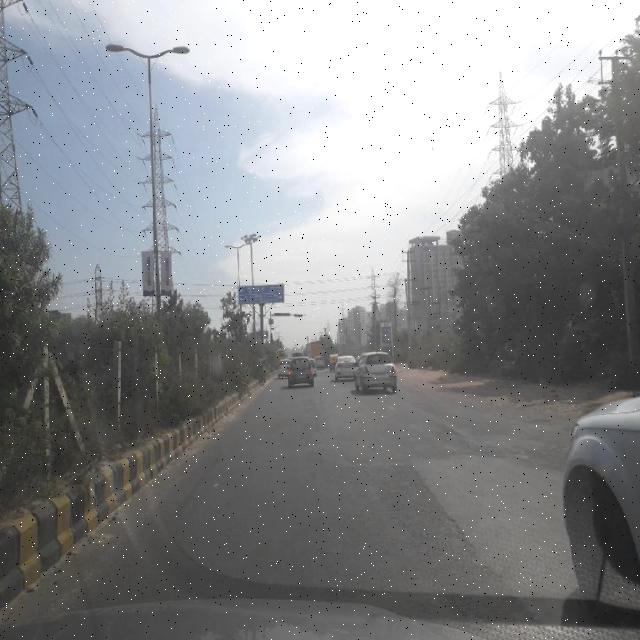D20: (132, 411, 530, 617)
D44: (70, 448, 202, 602)
